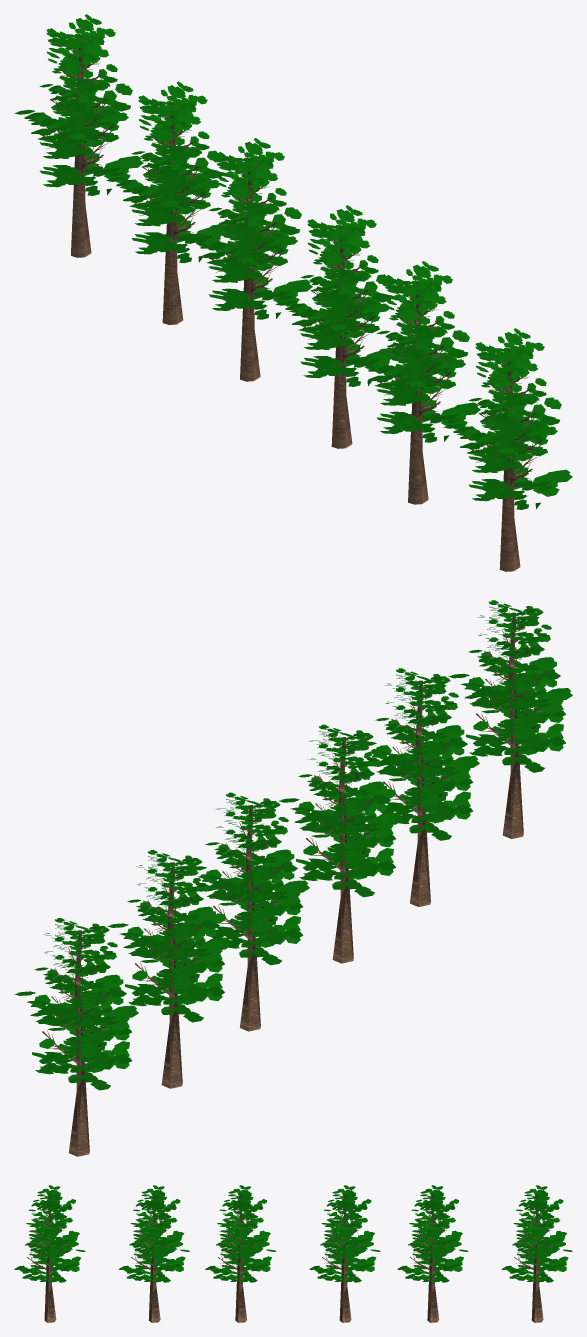
Rendered from arbre.fbx.
The picture shows the model from 3 angles, top to bottom: view 1: azimuth 30°, elevation 25°; view 2: azimuth 150°, elevation 25°; view 3: azimuth 270°, elevation 25°; orthographic projection. The views are drawn at different scales.
Visible parts, largest first — view 1: Birch_01_grp1_Trunk_01_geo.051, Birch_01_grp1_Trunk_01_geo.049, Birch_01_grp1_Trunk_01_geo.050, Birch_01_grp1_Trunk_01_geo.033, Birch_01_grp1_Trunk_01_geo.034, Birch_01_grp1_Trunk_01_geo.048; view 2: Birch_01_grp1_Trunk_01_geo.033, Birch_01_grp1_Trunk_01_geo.048, Birch_01_grp1_Trunk_01_geo.051, Birch_01_grp1_Trunk_01_geo.034, Birch_01_grp1_Trunk_01_geo.049, Birch_01_grp1_Trunk_01_geo.050; view 3: Birch_01_grp1_Trunk_01_geo.034, Birch_01_grp1_Trunk_01_geo.051, Birch_01_grp1_Trunk_01_geo.048, Birch_01_grp1_Trunk_01_geo.049, Birch_01_grp1_Trunk_01_geo.033, Birch_01_grp1_Trunk_01_geo.050.
Boxes of the visible parts, x1,y1,x2,y2 form: Birch_01_grp1_Trunk_01_geo.051: (443, 328, 572, 571); Birch_01_grp1_Trunk_01_geo.049: (183, 138, 312, 381); Birch_01_grp1_Trunk_01_geo.050: (351, 261, 480, 504); Birch_01_grp1_Trunk_01_geo.033: (14, 14, 143, 257); Birch_01_grp1_Trunk_01_geo.034: (106, 81, 229, 324); Birch_01_grp1_Trunk_01_geo.048: (275, 205, 397, 448); Birch_01_grp1_Trunk_01_geo.033: (14, 918, 138, 1156); Birch_01_grp1_Trunk_01_geo.048: (278, 724, 402, 963); Birch_01_grp1_Trunk_01_geo.051: (448, 600, 572, 838); Birch_01_grp1_Trunk_01_geo.034: (107, 849, 231, 1088); Birch_01_grp1_Trunk_01_geo.049: (196, 792, 309, 1031); Birch_01_grp1_Trunk_01_geo.050: (357, 668, 479, 906); Birch_01_grp1_Trunk_01_geo.034: (397, 1185, 468, 1322); Birch_01_grp1_Trunk_01_geo.051: (14, 1185, 85, 1322); Birch_01_grp1_Trunk_01_geo.048: (205, 1185, 275, 1322); Birch_01_grp1_Trunk_01_geo.049: (309, 1185, 380, 1322); Birch_01_grp1_Trunk_01_geo.033: (501, 1185, 572, 1322); Birch_01_grp1_Trunk_01_geo.050: (118, 1185, 189, 1322).
Bounding box in the file's own units: 70.69 × 137 × 530.
